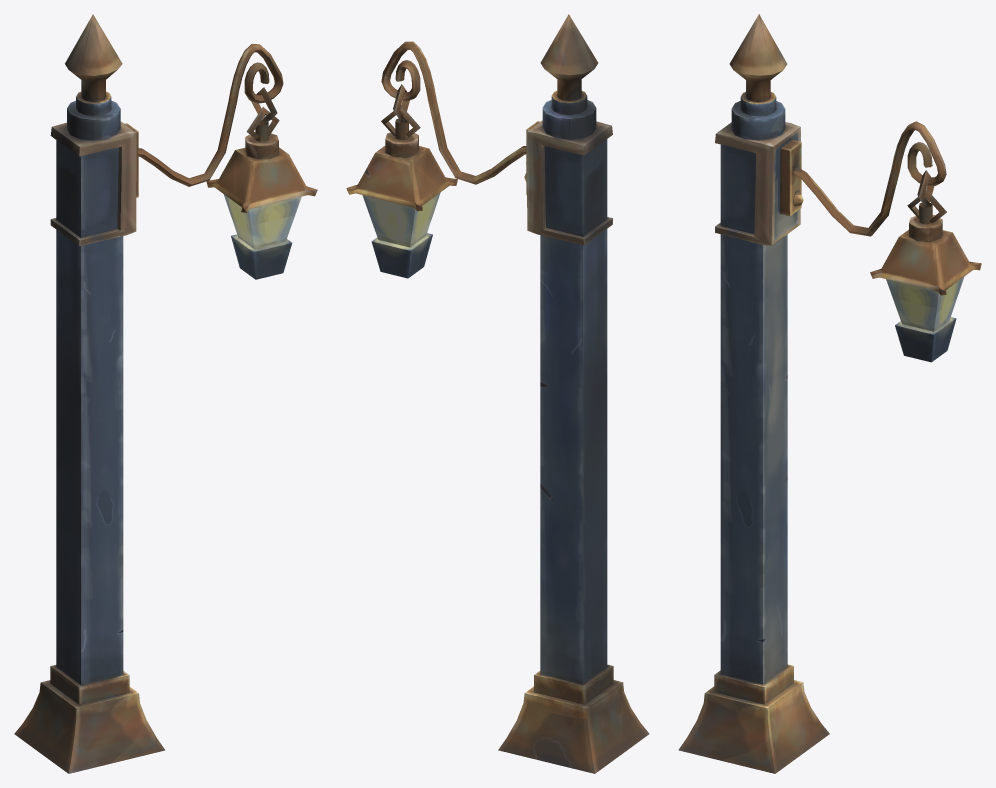
Rendered from lamp_cobre_1.fbx.
3 renders of one model, left to right at view 1: azimuth 30°, elevation 25°; view 2: azimuth 150°, elevation 25°; view 3: azimuth 330°, elevation 25°, orthographic.
Parts seen in each view (by area): view 1: BezierCurve_streetLamp4; view 2: BezierCurve_streetLamp4; view 3: BezierCurve_streetLamp4.
Part boxes in pixels (x1=…): BezierCurve_streetLamp4: x1=14, y1=14, x2=317, y2=773; BezierCurve_streetLamp4: x1=346, y1=14, x2=649, y2=773; BezierCurve_streetLamp4: x1=678, y1=14, x2=981, y2=773.
Bounding box in the file's own units: 140 × 377 × 51.38.
Materials: 1 (1 with a texture image).
